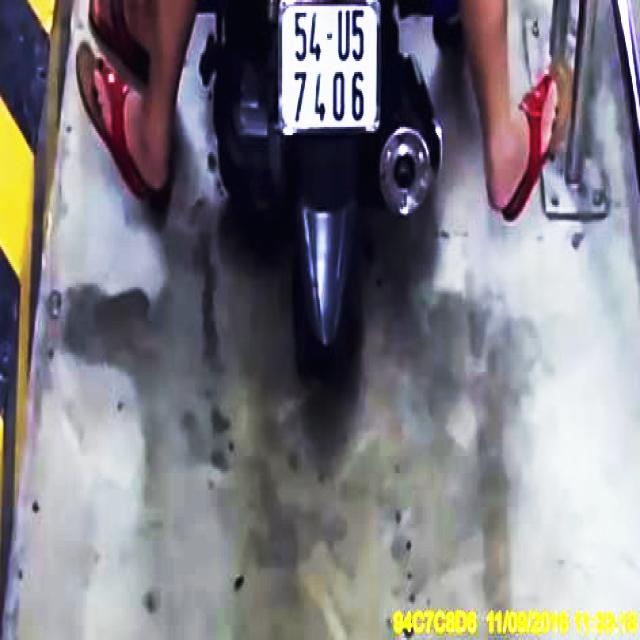license_plate: (282, 1, 380, 128)
